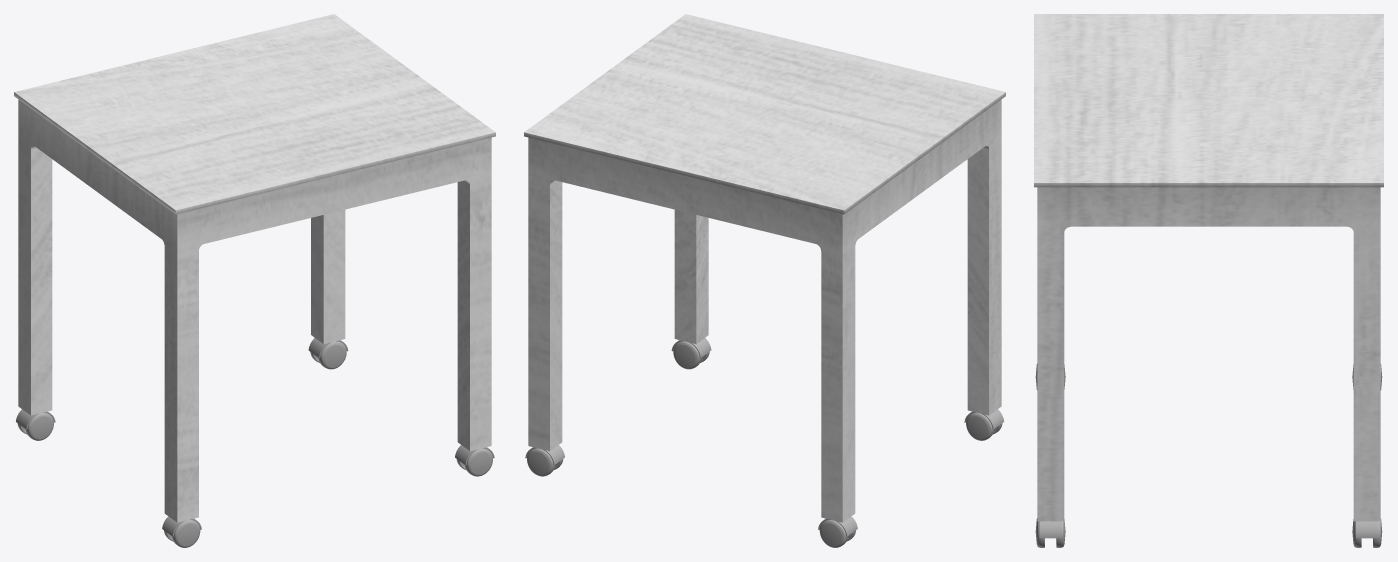
Rendered from table.obj.
The picture shows the model from 3 angles, left to right: view 1: azimuth 30°, elevation 25°; view 2: azimuth 150°, elevation 25°; view 3: azimuth 270°, elevation 25°; orthographic projection. The views are drawn at different scales.
Visible parts, largest first — view 1: table; view 2: table; view 3: table.
Boxes of the visible parts, x1,y1,x2,y2 form: table: (14,14,495,547); table: (524,14,1005,547); table: (1034,14,1383,547).
Size of the model in its own units: 0.8048 by 0.8179 by 0.7.
Materials: 2 (1 with a texture image).
